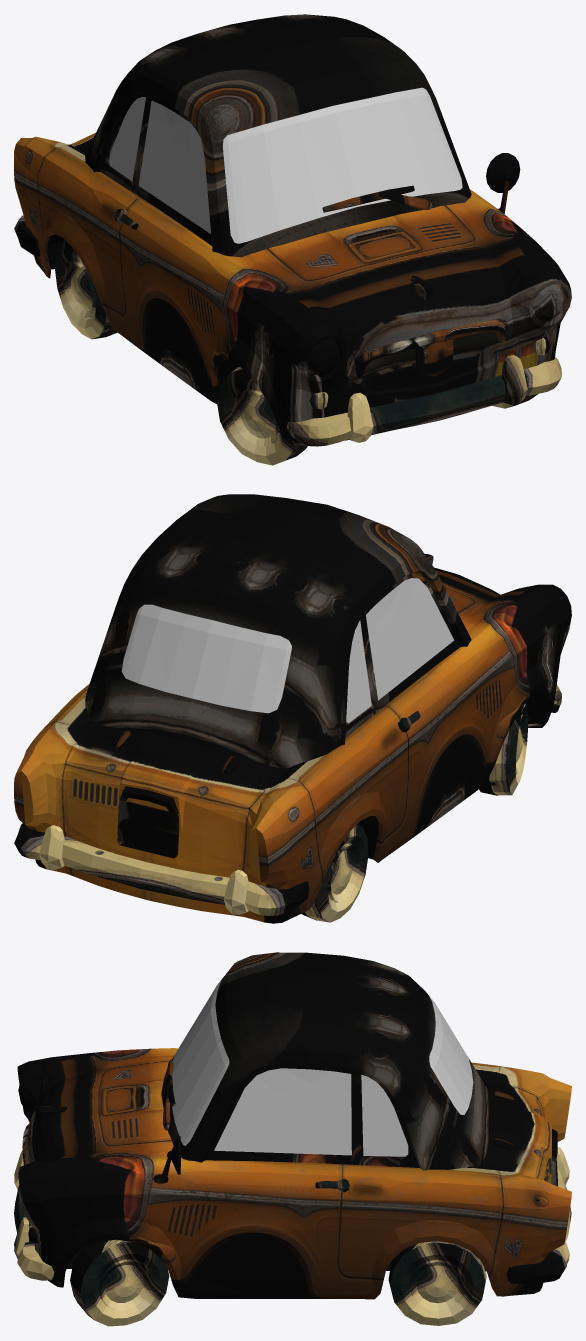
The model's file is oldcar.obj.
3 renders of one model, top to bottom at view 1: azimuth 30°, elevation 25°; view 2: azimuth 150°, elevation 25°; view 3: azimuth 270°, elevation 25°, orthographic. The views are drawn at different scales.
Parts seen in each view (by area): view 1: Object_Body_dDo_d_orange.jpg; view 2: Object_Body_dDo_d_orange.jpg; view 3: Object_Body_dDo_d_orange.jpg.
Part boxes in pixels (left/top/right/bottom): Object_Body_dDo_d_orange.jpg: left=14, top=14, right=571, bottom=465; Object_Body_dDo_d_orange.jpg: left=14, top=494, right=571, bottom=923; Object_Body_dDo_d_orange.jpg: left=14, top=952, right=571, bottom=1326.
Bounding box in the file's own units: 1.52 × 1.41 × 2.5.
